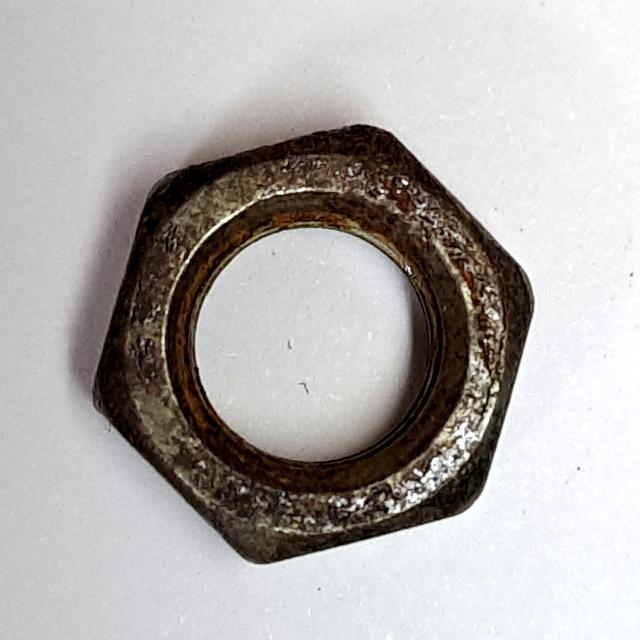Rust: (83, 113, 547, 575)
